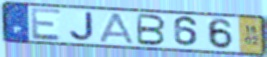6: (206, 17, 235, 51), (172, 15, 200, 49)
A: (98, 12, 136, 46)
B: (136, 12, 168, 47)
E: (29, 6, 64, 42)
J: (68, 11, 96, 42)
